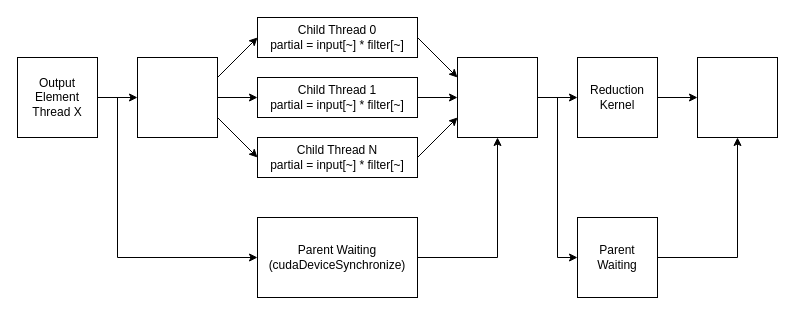
The diagram is 795 pixels wide and 315 high, and some of its shapes have lost their labels. Each missing label, with the centre of its shape:
"Child Kernel" goes at pixel 177 97.
"Joint Parent" goes at pixel 497 97.
"Joint Parent Write Output" goes at pixel 737 97.
